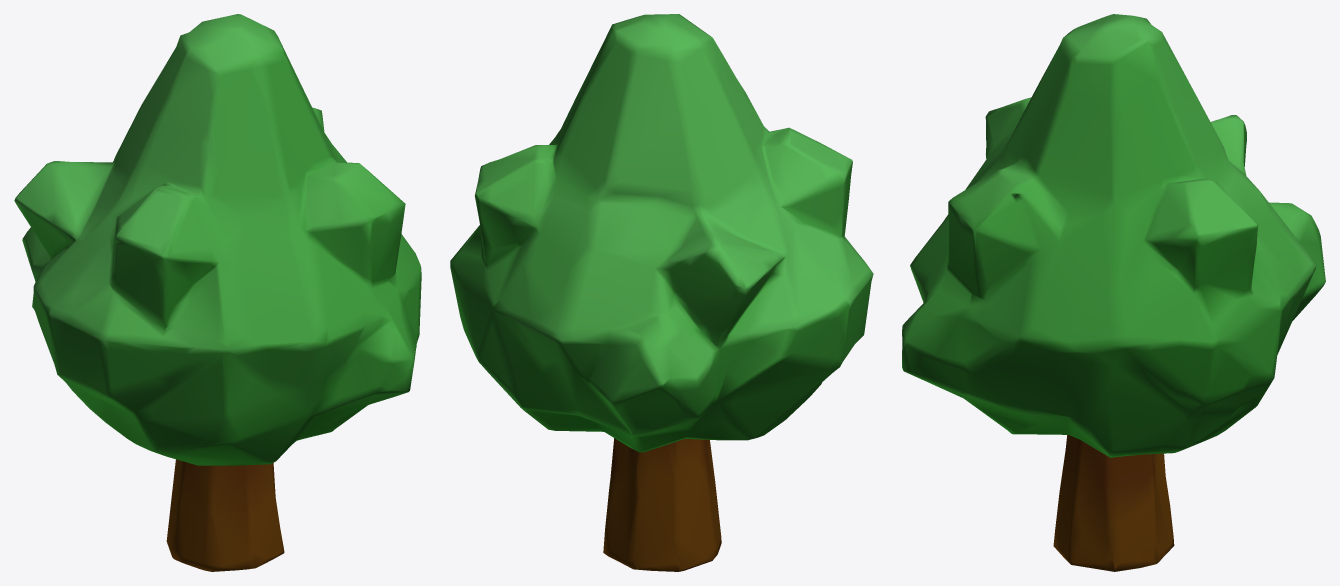
Rendered from gen3d-frozen-shrub-lod0.glb.
The picture shows the model from 3 angles, left to right: view 1: azimuth 30°, elevation 25°; view 2: azimuth 150°, elevation 25°; view 3: azimuth 270°, elevation 25°; orthographic projection.
Parts seen in each view (by area): view 1: part_0; view 2: part_0; view 3: part_0.
Boxes of the visible parts, box(x1,y1,x2,y2) form: part_0: box(14, 14, 421, 571); part_0: box(450, 14, 873, 571); part_0: box(902, 14, 1325, 571).
Size of the model in its own units: 0.7003 by 0.9991 by 0.7261.
